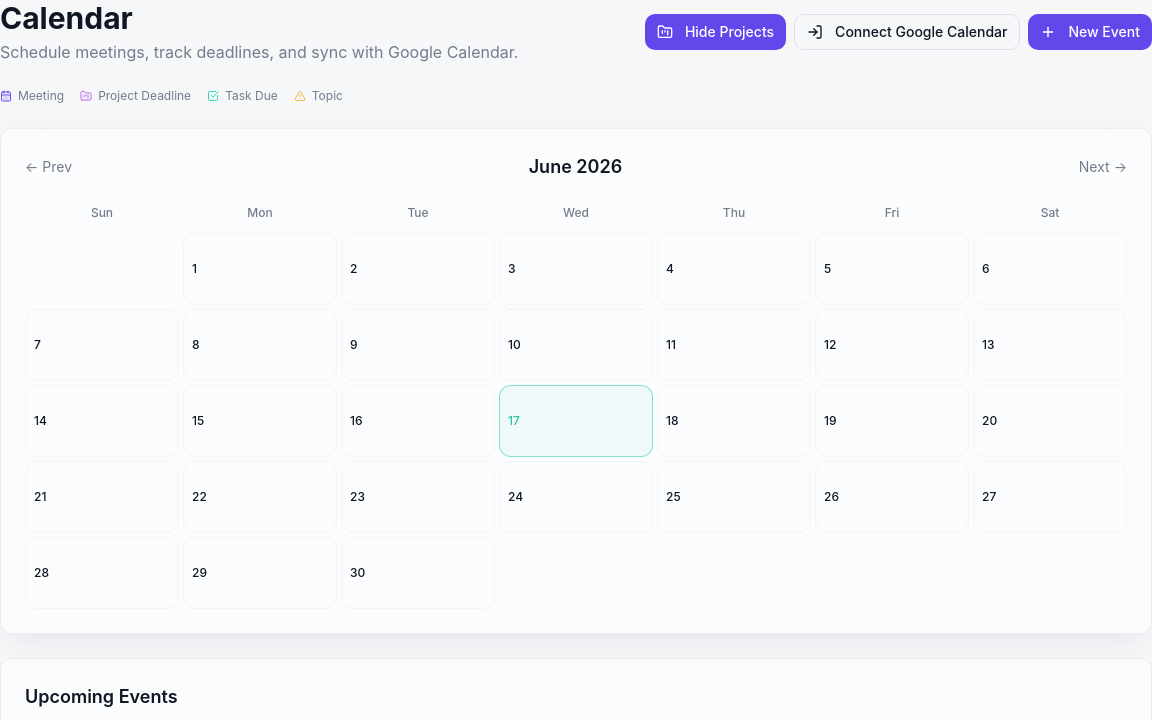
Test: CalendarView - Meeting creation › opens create dialog when clicking New Event
Click the button "New Event" at (1090, 32), box left=1028, top=14, right=1151, bottom=50
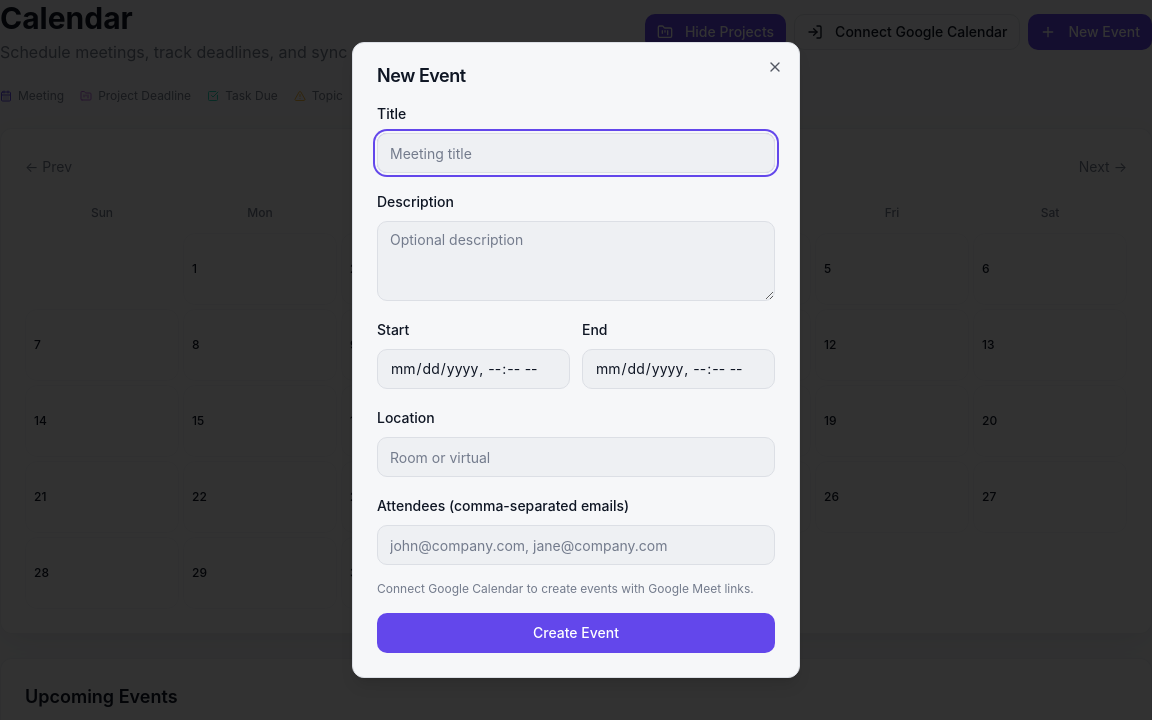
Expected: the text "New Event" is shown, left=377, top=65, right=466, bottom=86
